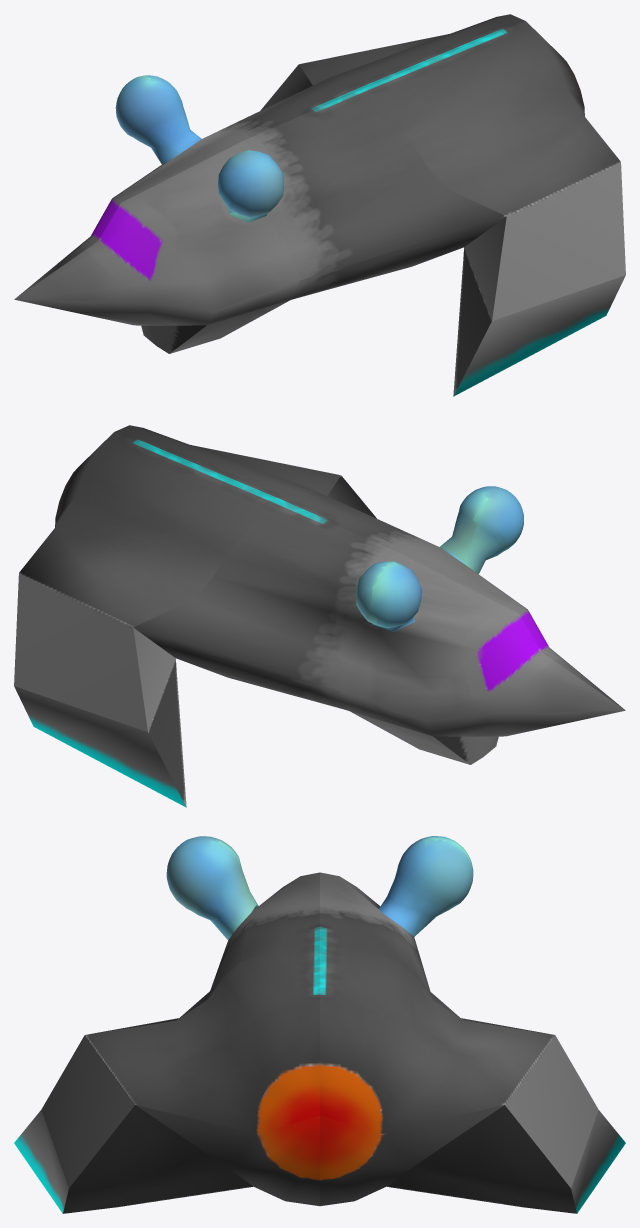
File: playerShip.fbx
3 renders of one model, top to bottom at view 1: azimuth 30°, elevation 25°; view 2: azimuth 150°, elevation 25°; view 3: azimuth 270°, elevation 25°, orthographic. The views are drawn at different scales.
Parts seen in each view (by area): view 1: playerShip; view 2: playerShip; view 3: playerShip.
Boxes of the visible parts, left/top/right/bottom form: playerShip: left=14, top=14, right=625, bottom=396; playerShip: left=14, top=425, right=625, bottom=807; playerShip: left=14, top=836, right=625, bottom=1213.
Bounding box in the file's own units: 5.96 × 2.47 × 5.13.
